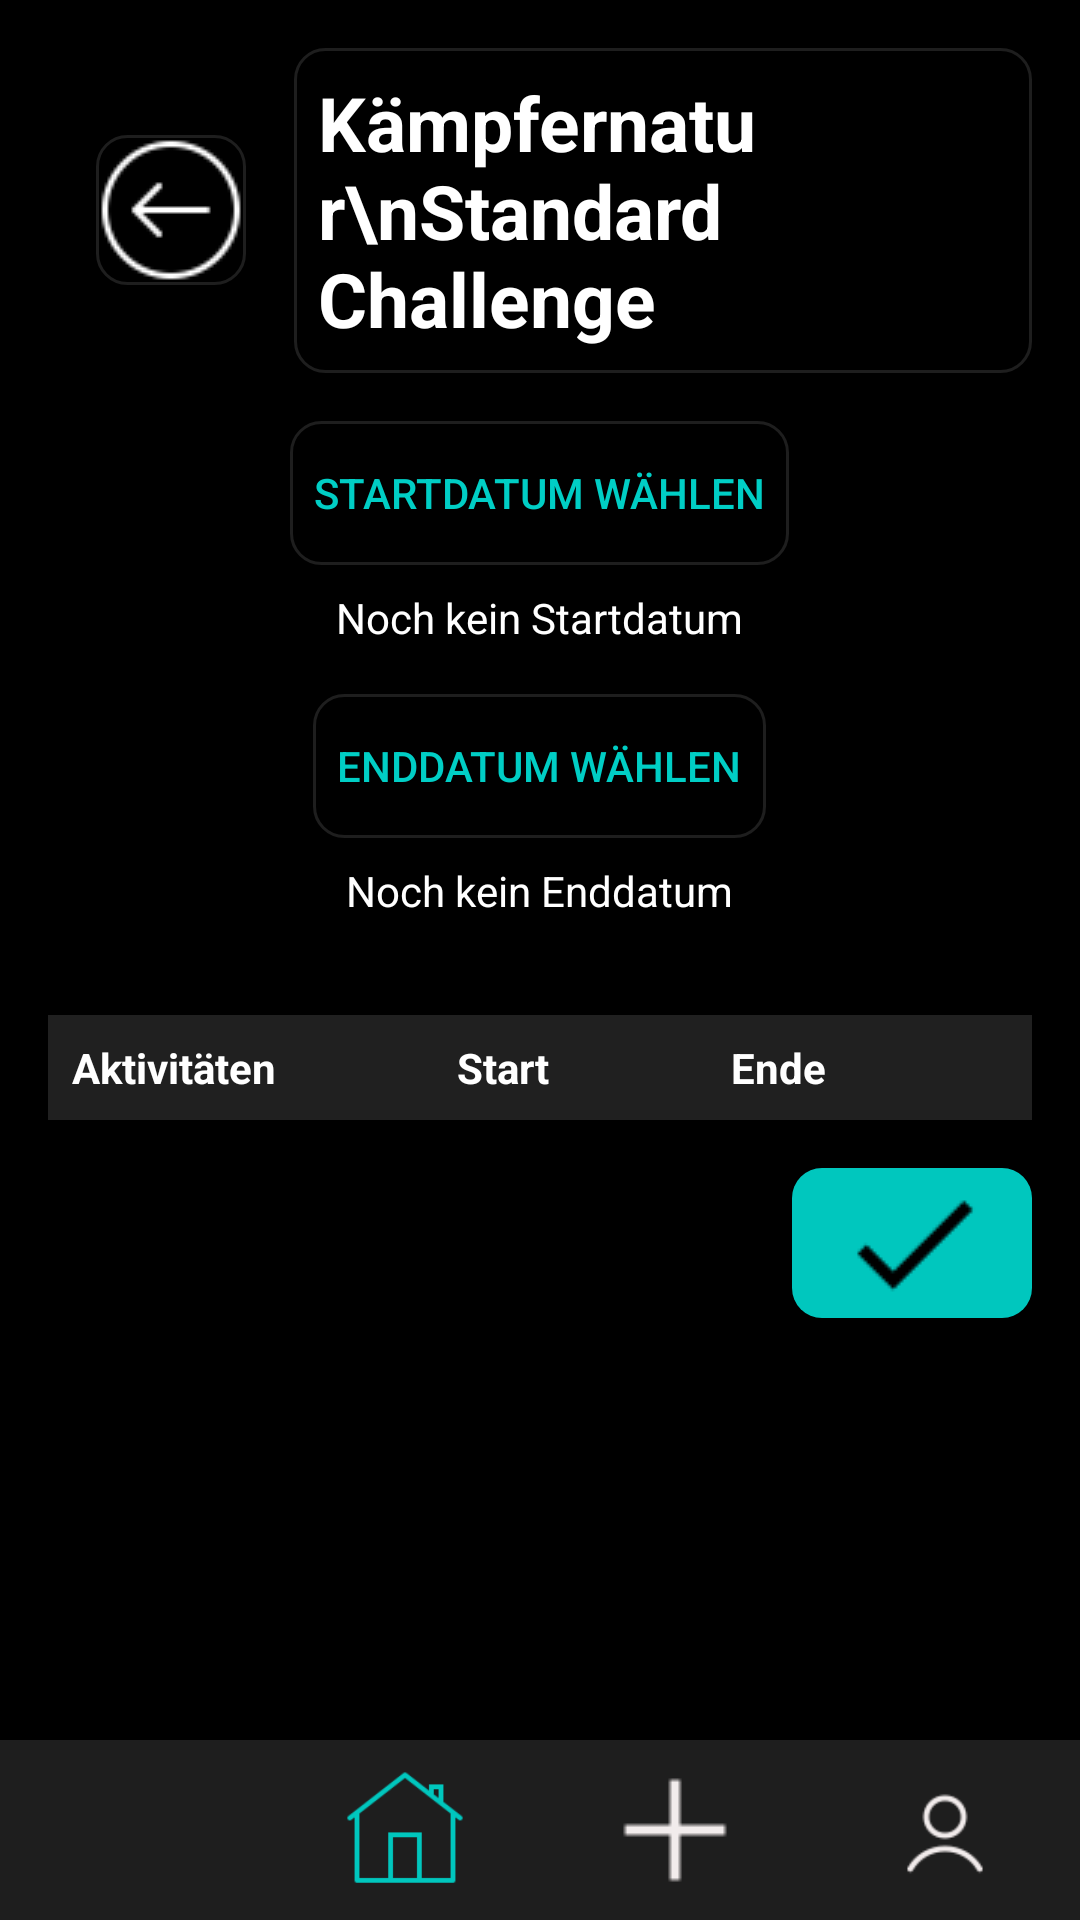

Icons on this 1080*1920 Android screen, each with its box as (x1, y1, x2, y2):
add: (623, 1778, 727, 1882)
Auswahl bestätigen: (792, 1168, 1032, 1318)
home: (347, 1772, 463, 1883)
profile: (907, 1794, 983, 1873)
Zurück: (96, 135, 246, 285)
